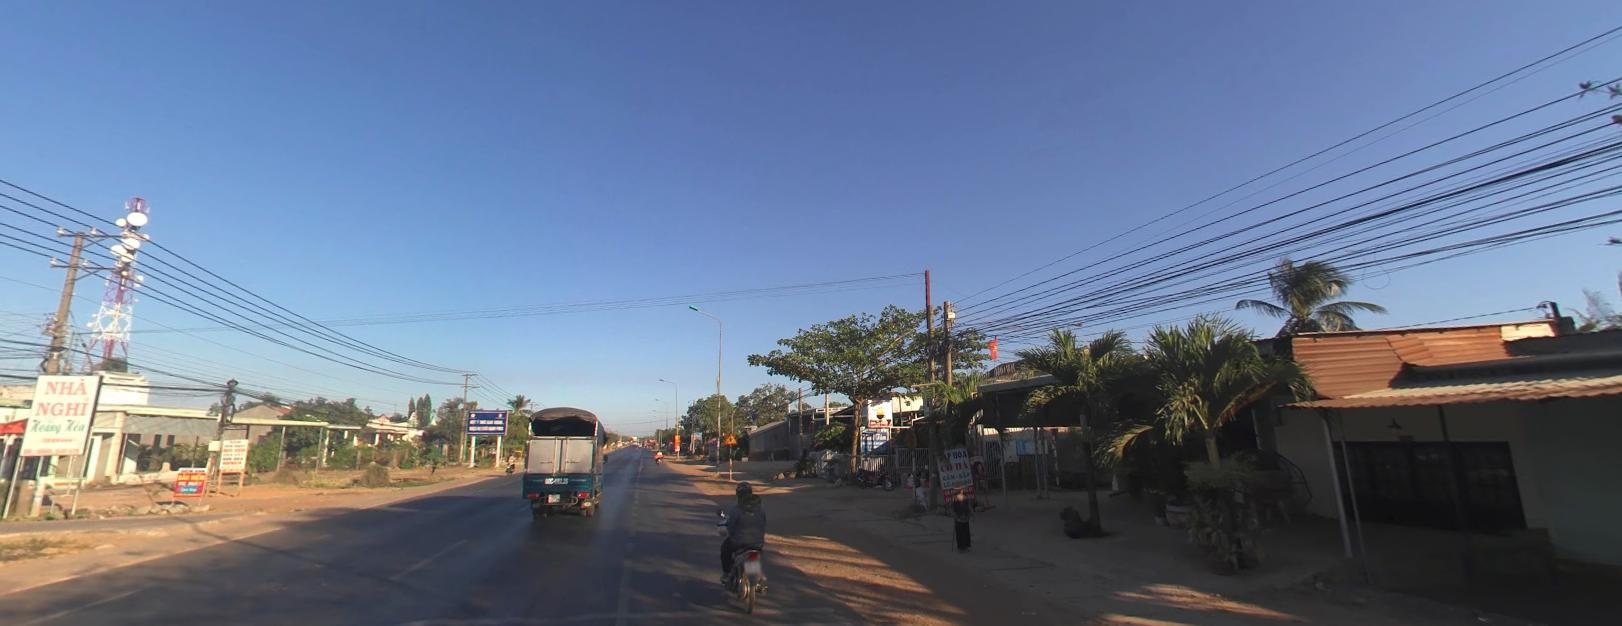Nguy hiem: (723, 431, 737, 443)
